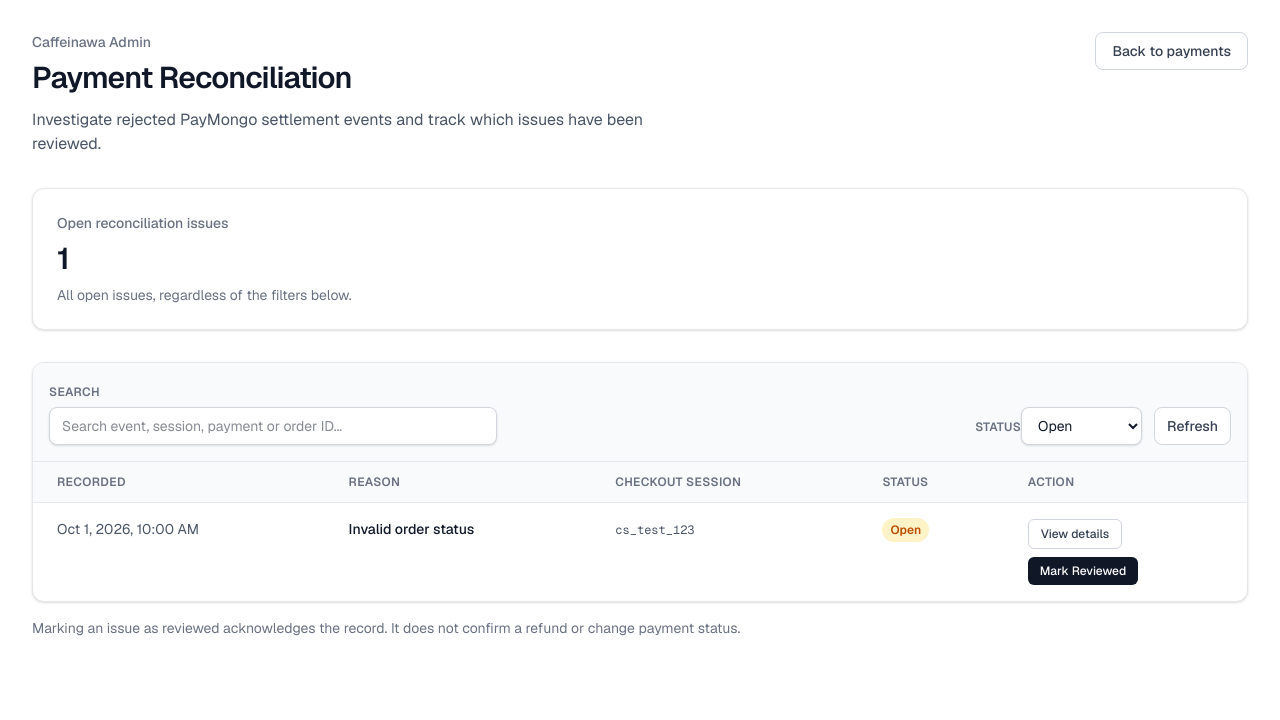
Test: AdminPaymentReconciliationPage › marks an issue reviewed and refreshes the queries
Expected: the text "cs_test_123" is shown, [615,522,694,538]
Expected: the text "1" is shown, [57,239,70,278]
Click the button "Mark Reviewed" at (1083, 571), box [1028,557,1138,585]
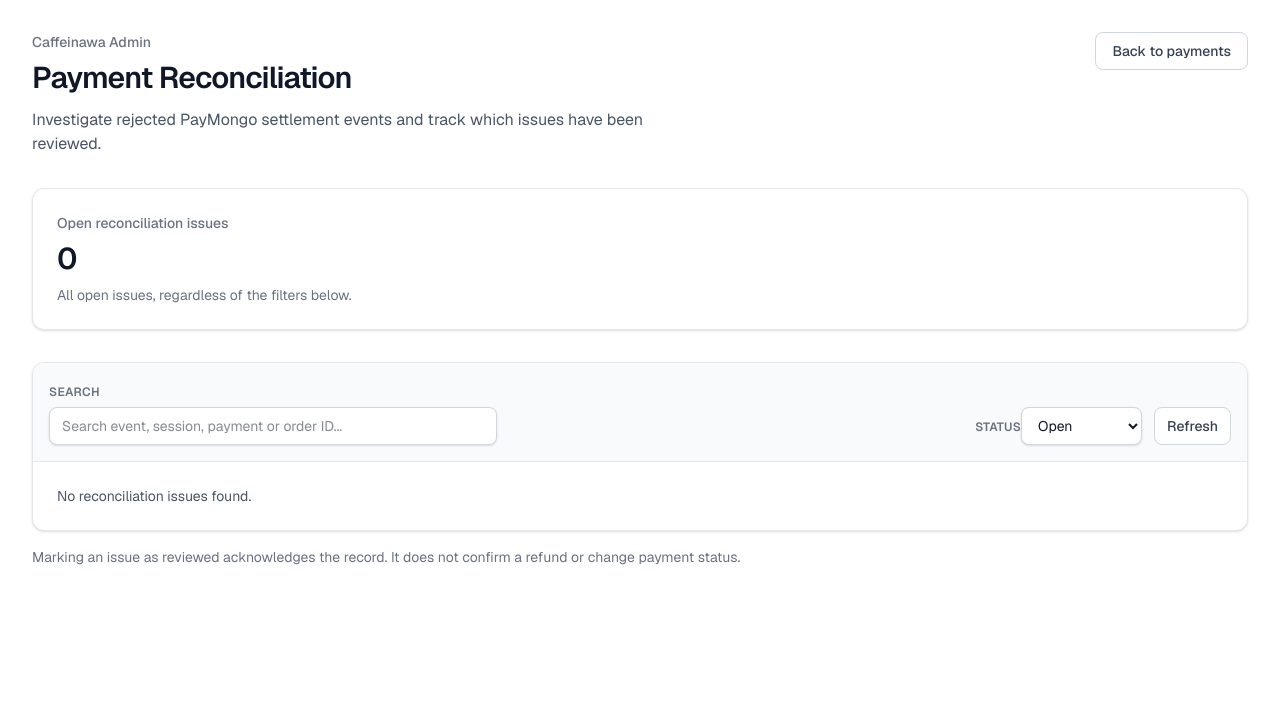
Expected: the text "0" is shown, [57,239,78,278]
Expected: the text "No reconciliation issues found." is shown, [57,487,251,505]
